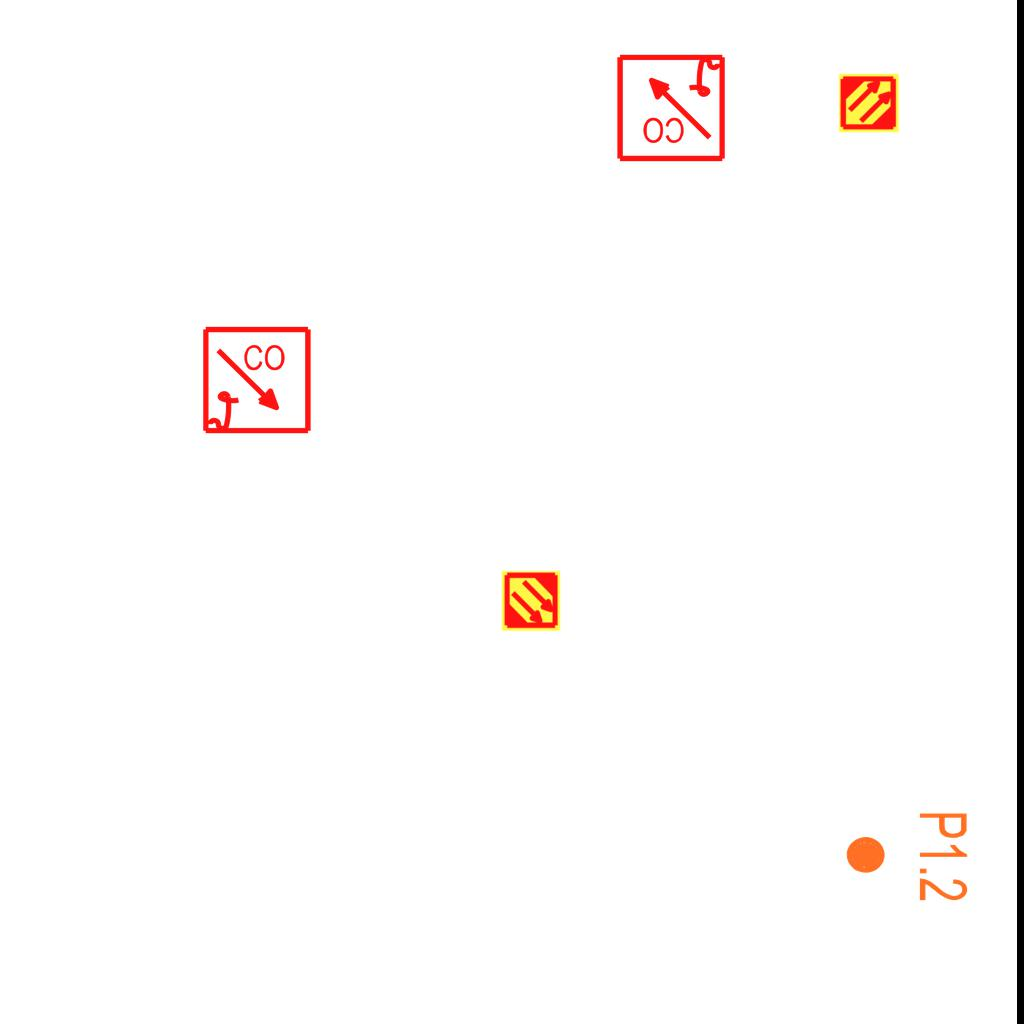ASR_Ansaugrauchmelder: (838, 72, 900, 134), (500, 570, 562, 632)
Downlight_LED_Einbauleuchten_Flur: (843, 810, 971, 903)
ROA_Rauchmelder_optisch_mit_Signalgeber_(Sockelsirene): (614, 50, 727, 163), (201, 325, 314, 438)
